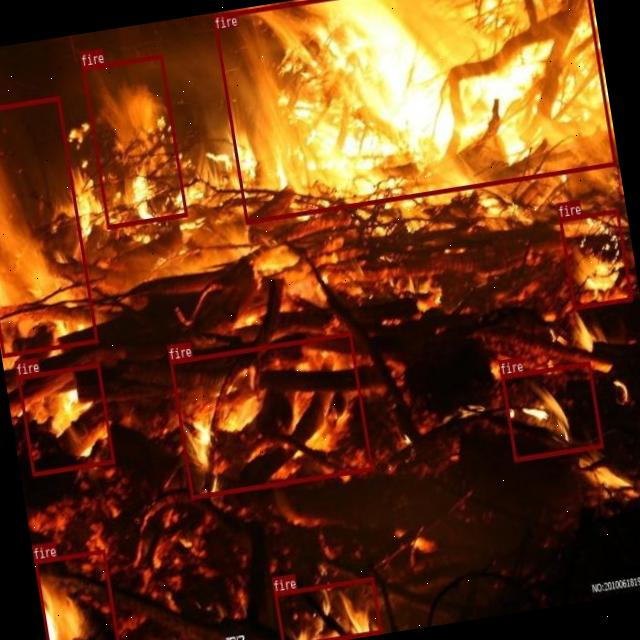fire: (213, 0, 616, 223), (170, 332, 373, 500), (0, 96, 98, 356), (82, 54, 188, 230), (17, 363, 115, 475), (500, 362, 603, 461), (34, 548, 121, 640), (559, 209, 632, 310), (274, 577, 382, 640)
